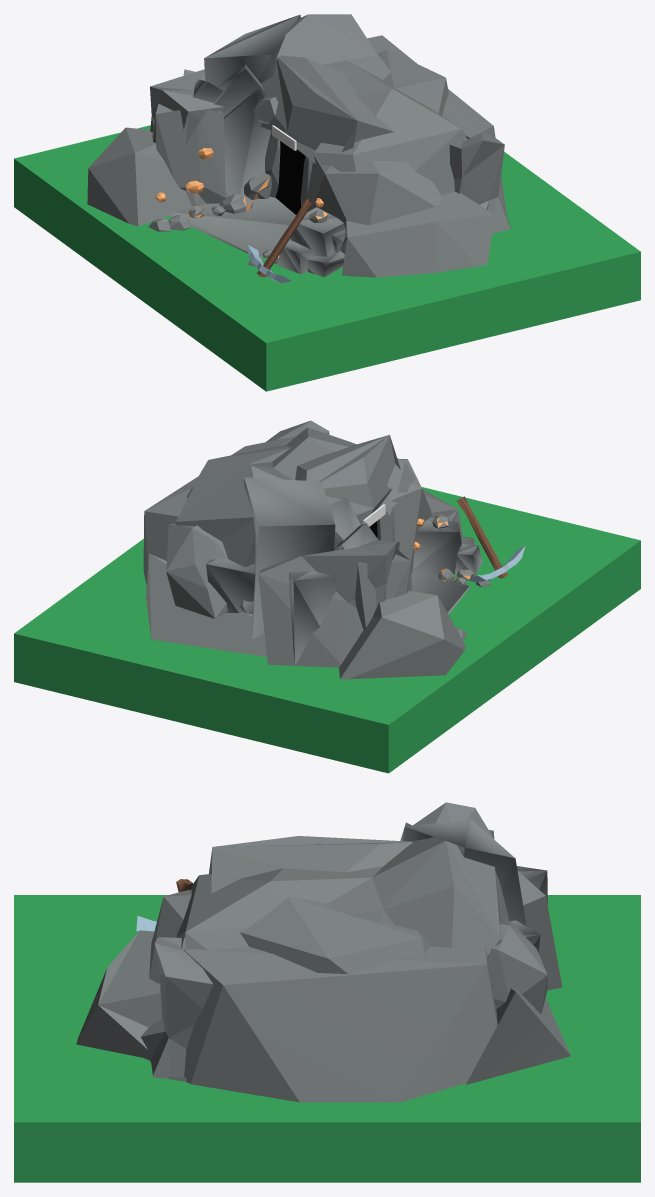
Rendered from mine_new_lvl1.fbx.
3 views of the same model, one above another, from view 1: azimuth 30°, elevation 25°; view 2: azimuth 150°, elevation 25°; view 3: azimuth 270°, elevation 25° (orthographic). The views are drawn at different scales.
Visible parts, largest first — view 1: rocks, terrain, abyss, pickaxe; view 2: rocks, terrain, pickaxe; view 3: rocks, terrain.
Boxes of the visible parts, box(x1,y1,x2,y2) form: rocks: box(87, 14, 510, 277); terrain: box(14, 125, 640, 391); abyss: box(275, 141, 305, 214); pickaxe: box(248, 198, 312, 283); rocks: box(143, 420, 489, 679); terrain: box(14, 487, 640, 773); pickaxe: box(456, 496, 525, 582); rocks: box(76, 802, 570, 1102); terrain: box(14, 895, 640, 1182).
Size of the model in its own units: 265 by 139 by 309.
